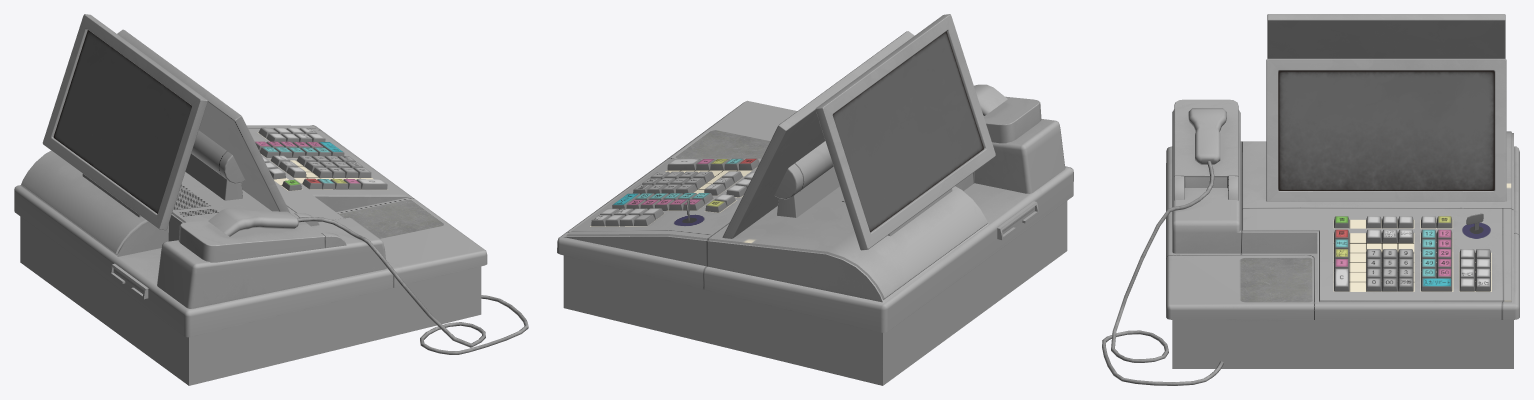
The model's file is SM_CashRegister.fbx.
3 views of the same model, side by side, from view 1: azimuth 30°, elevation 25°; view 2: azimuth 150°, elevation 25°; view 3: azimuth 270°, elevation 25° (orthographic). The views are drawn at different scales.
Parts seen in each view (by area): view 1: SM_CashRegister_LOD0; view 2: SM_CashRegister_LOD0; view 3: SM_CashRegister_LOD0.
Boxes of the visible parts, x1,y1,x2,y2 form: SM_CashRegister_LOD0: (14, 14, 528, 385); SM_CashRegister_LOD0: (557, 14, 1073, 385); SM_CashRegister_LOD0: (1102, 14, 1519, 385).
Bounding box in the file's own units: 45.68 × 48.92 × 31.29.
Materials: 1 (1 with a texture image).
